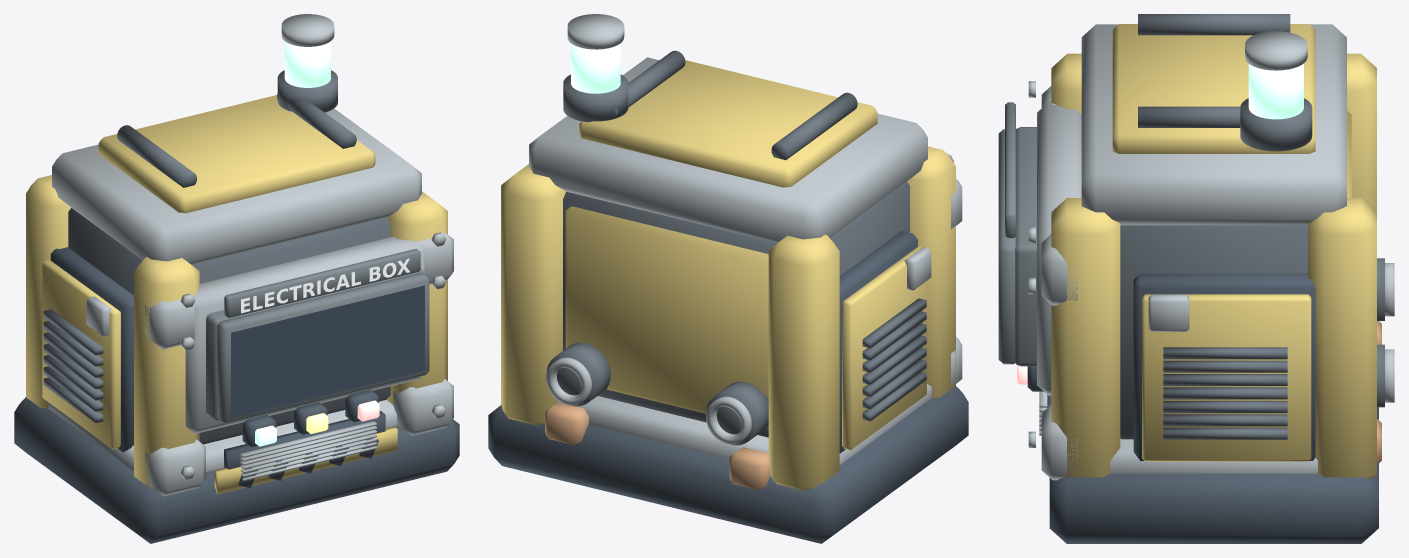
File: electrical_box_ultra.glb
3 renders of one model, left to right at view 1: azimuth 30°, elevation 25°; view 2: azimuth 150°, elevation 25°; view 3: azimuth 270°, elevation 25°, orthographic. The views are drawn at different scales.
Visible parts, largest first — view 1: TopCap_steel_legacy_10, Base_black_legacy_0, Frame_yellow_legacy_4, RoofPanel_yellow_legacy_11, LiveViewSurface_glass, Housing_dark_legacy_2, CornerGuard_steel_legacy_5, DisplayFrame_steel_legacy_13, ServiceDoor_yellow_legacy_7, LiveViewSurfaceFrame_frame, Detail_steel_legacy_24, SideVents_dark_legacy_8 (+13 smaller); view 2: Frame_yellow_legacy_4, Armor_yellow_legacy_3, Base_black_legacy_0, TopCap_steel_legacy_10, RoofPanel_yellow_legacy_11, Housing_dark_legacy_2, ServiceDoor_yellow_legacy_7, SideVents_dark_legacy_8, Skirt_steel_legacy_1, RearPort_dark_legacy_29, LiftRail_dark_legacy_12, RearPort_copper_legacy_31 (+7 smaller); view 3: Frame_yellow_legacy_4, TopCap_steel_legacy_10, Base_black_legacy_0, ServiceDoor_yellow_legacy_7, RoofPanel_yellow_legacy_11, Housing_dark_legacy_2, SideVents_dark_legacy_8, DisplayFrame_steel_legacy_13, SidePanel_black_legacy_6, LiftRail_dark_legacy_12, ScreenMount_frame, CornerGuard_steel_legacy_5 (+10 smaller).
Part boxes in pixels (x1,y1,x2,y2): TopCap_steel_legacy_10: (52, 108, 421, 264); Base_black_legacy_0: (14, 397, 459, 543); Frame_yellow_legacy_4: (26, 175, 447, 491); RoofPanel_yellow_legacy_11: (98, 95, 375, 213); LiveViewSurface_glass: (231, 285, 424, 417); Housing_dark_legacy_2: (68, 208, 390, 444); CornerGuard_steel_legacy_5: (145, 232, 453, 496); DisplayFrame_steel_legacy_13: (185, 236, 424, 433); ServiceDoor_yellow_legacy_7: (42, 260, 120, 449); LiveViewSurfaceFrame_frame: (217, 272, 429, 423); Detail_steel_legacy_24: (180, 232, 446, 480); SideVents_dark_legacy_8: (43, 309, 103, 422); Frame_yellow_legacy_4: (501, 146, 955, 490); Armor_yellow_legacy_3: (565, 206, 768, 428); Base_black_legacy_0: (488, 386, 968, 543); TopCap_steel_legacy_10: (529, 57, 927, 242); RoofPanel_yellow_legacy_11: (579, 60, 877, 187); Housing_dark_legacy_2: (563, 182, 909, 437); ServiceDoor_yellow_legacy_7: (842, 246, 926, 450); SideVents_dark_legacy_8: (862, 298, 926, 421); Skirt_steel_legacy_1: (557, 384, 931, 464); RearPort_dark_legacy_29: (546, 342, 768, 445); LiftRail_dark_legacy_12: (615, 50, 857, 160); RearPort_copper_legacy_31: (545, 402, 770, 490); Frame_yellow_legacy_4: (1051, 53, 1376, 478); TopCap_steel_legacy_10: (1081, 24, 1346, 225); Base_black_legacy_0: (1049, 407, 1378, 543); ServiceDoor_yellow_legacy_7: (1142, 294, 1311, 461); RoofPanel_yellow_legacy_11: (1112, 24, 1315, 153); Housing_dark_legacy_2: (1120, 225, 1307, 439); SideVents_dark_legacy_8: (1163, 347, 1287, 439); DisplayFrame_steel_legacy_13: (1037, 102, 1081, 395); SidePanel_black_legacy_6: (1133, 273, 1315, 460); LiftRail_dark_legacy_12: (1138, 14, 1290, 127); ScreenMount_frame: (1015, 127, 1036, 366); CornerGuard_steel_legacy_5: (1041, 86, 1077, 480).
Bounding box in the file's own units: 1.43 × 1.65 × 1.27.
